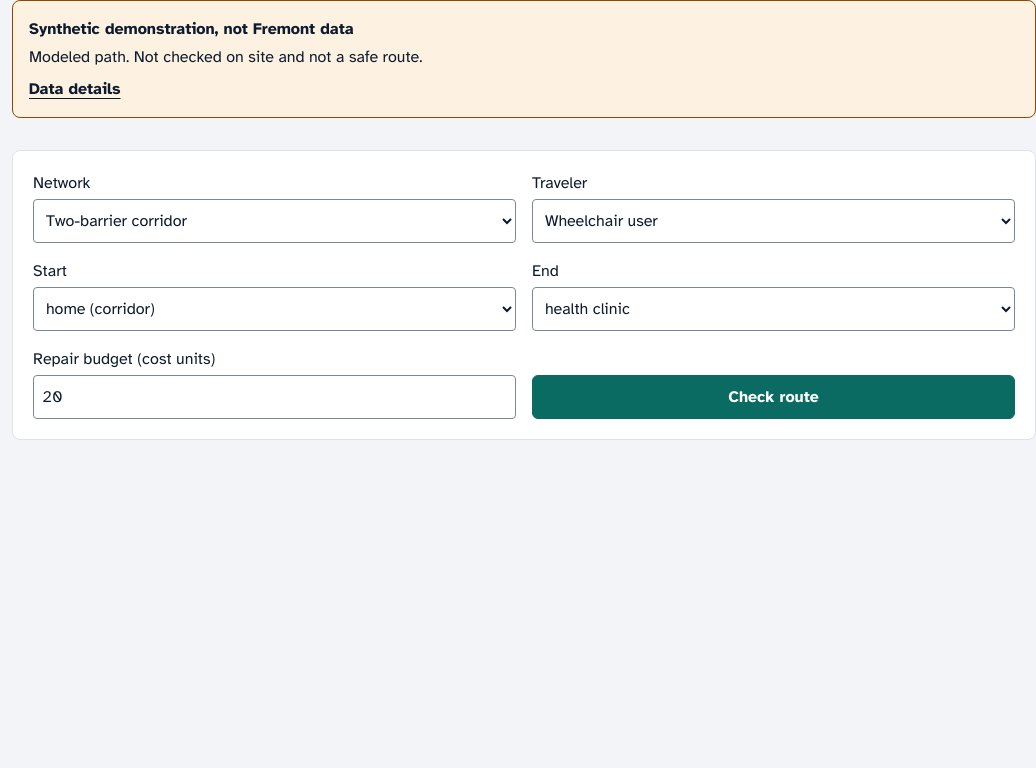
Test: shows no earlier result when a retry fails
Expected: the dropdown labelled "Start" is shown, x1=33 y1=287 x2=516 y2=331
Click the button "Check route". click: [774, 397]
box: x1=532 y1=375 x2=1015 y2=419
(page scrolled)
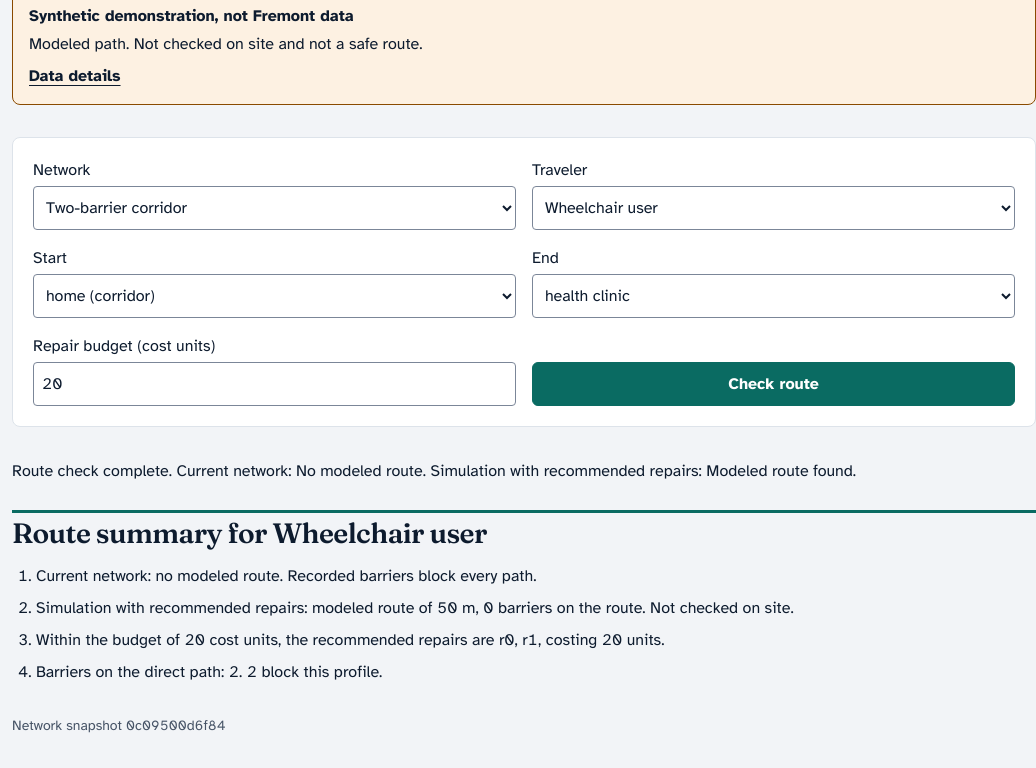
Expected: the heading "Route summary for Wheelchair user" is shown, x1=12 y1=516 x2=487 y2=550
Click the button "Check route". click: [774, 384]
box: x1=532 y1=362 x2=1015 y2=406
(page scrolled)
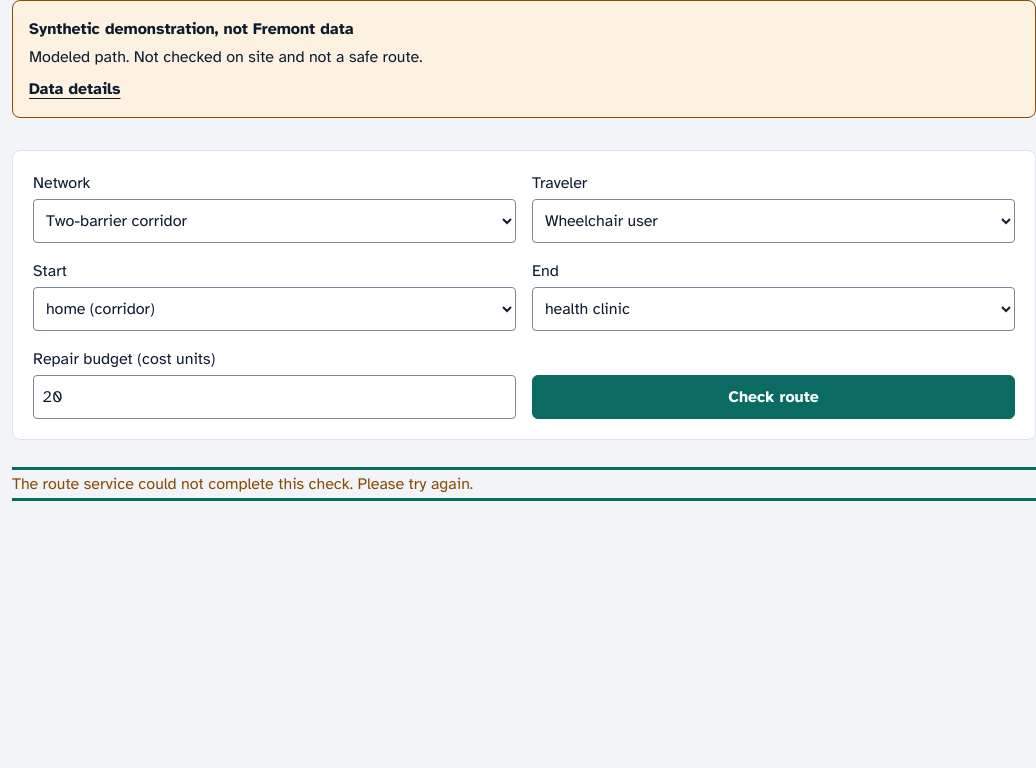
Expected: the text "The route service could not complete this check. Please try again." is shown, x1=12 y1=474 x2=473 y2=494
Expected: the heading "Route summary" is gone
